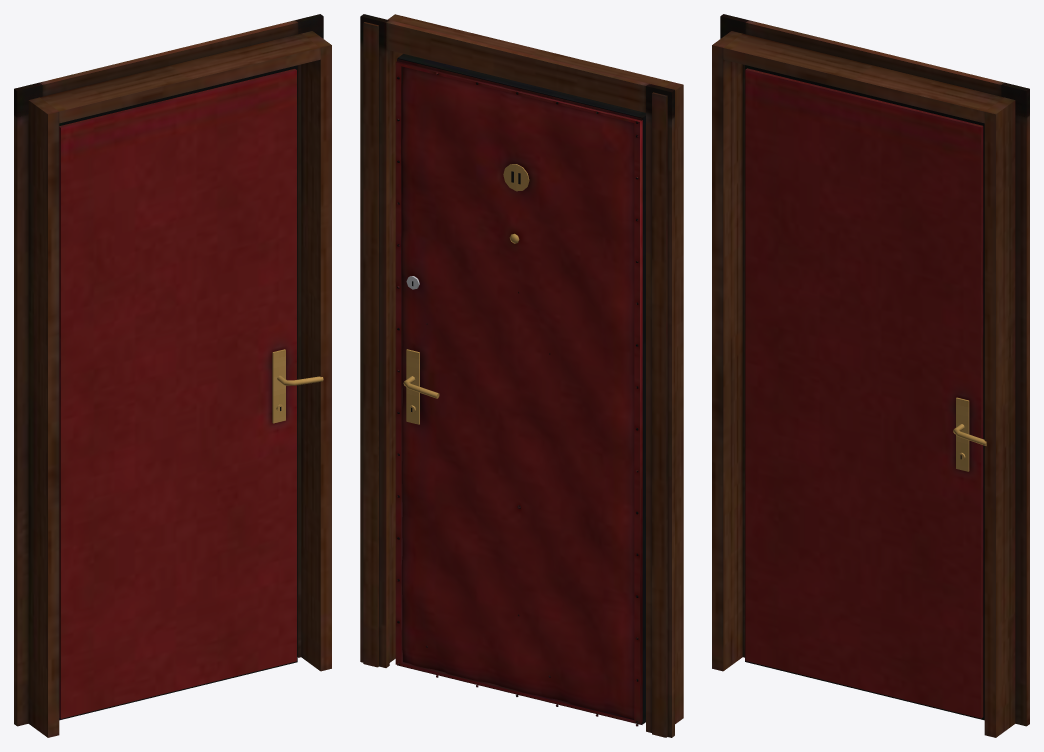
The model's file is pdoor_red_lod1_web.glb.
3 renders of one model, left to right at view 1: azimuth 30°, elevation 25°; view 2: azimuth 150°, elevation 25°; view 3: azimuth 330°, elevation 25°, orthographic.
Parts seen in each view (by area): view 1: Door_Mesh, Frame_Mesh, Chrome_Hw_Handle_In; view 2: Door_Mesh, Frame_Mesh, Chrome_Hw_Handle, Chrome_Hw_Number; view 3: Door_Mesh, Frame_Mesh, Chrome_Hw_Handle_In.
Boxes of the visible parts, x1,y1,x2,y2 form: Door_Mesh: (59,65,297,720); Frame_Mesh: (14,14,331,737); Chrome_Hw_Handle_In: (272,349,323,423); Door_Mesh: (395,54,645,726); Frame_Mesh: (360,14,683,737); Chrome_Hw_Handle: (403,349,439,424); Chrome_Hw_Number: (503,164,529,191); Door_Mesh: (745,65,984,720); Frame_Mesh: (712,14,1029,737); Chrome_Hw_Handle_In: (953,397,986,471).
Size of the model in its own units: 1.09 by 2.16 by 0.2271.
Materials: 4 (4 with a texture image).
